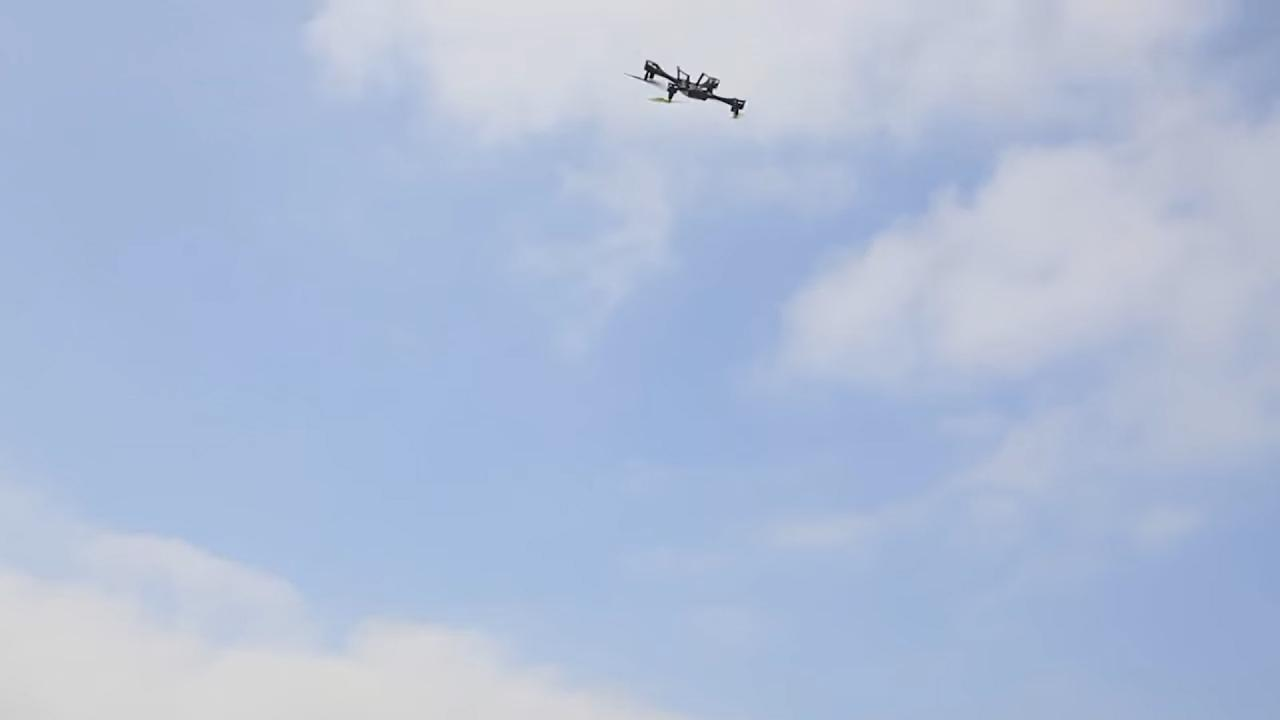Drone: (616, 54, 756, 127)
